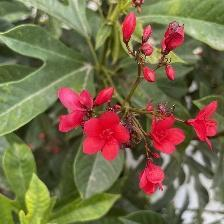jatropha: (83, 113, 130, 164), (149, 111, 190, 160)
